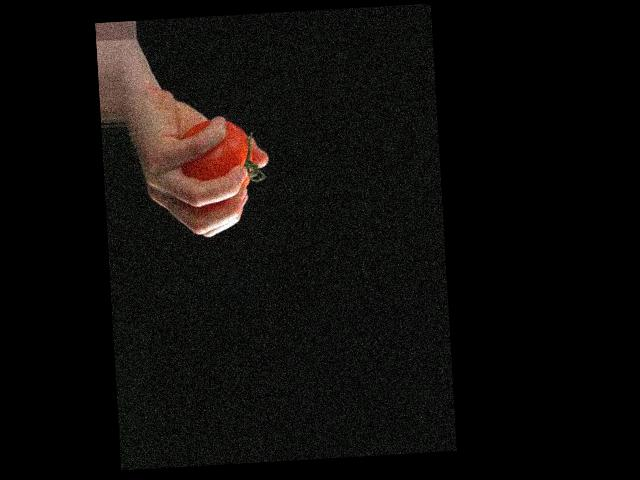tomato: (177, 117, 251, 191)
